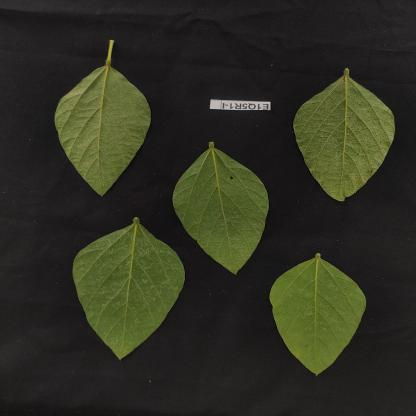label: (206, 86, 273, 120)
leaflets: (42, 215, 190, 365), (281, 54, 415, 211), (47, 46, 163, 209), (268, 244, 371, 388), (175, 134, 270, 274)
